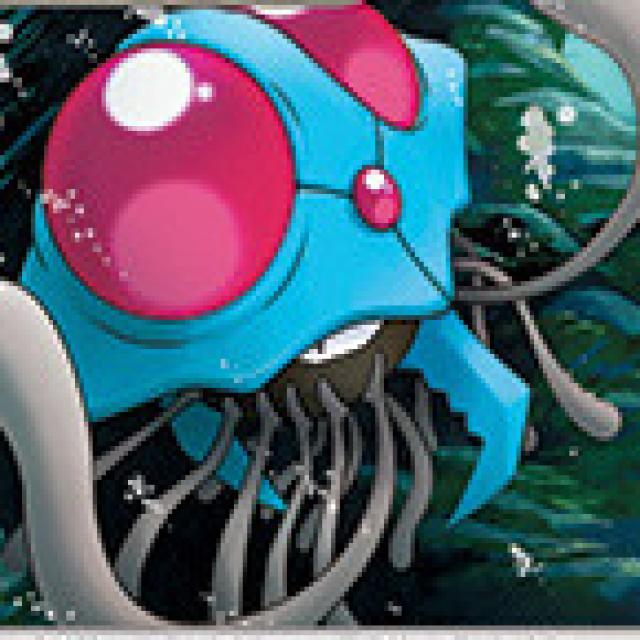Tentacruel: (12, 0, 491, 500)
